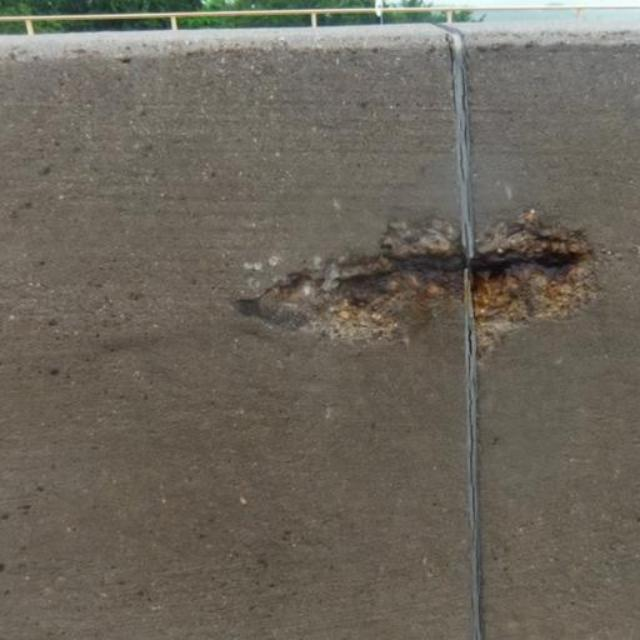D10: (238, 222, 469, 345), (470, 214, 605, 357)
